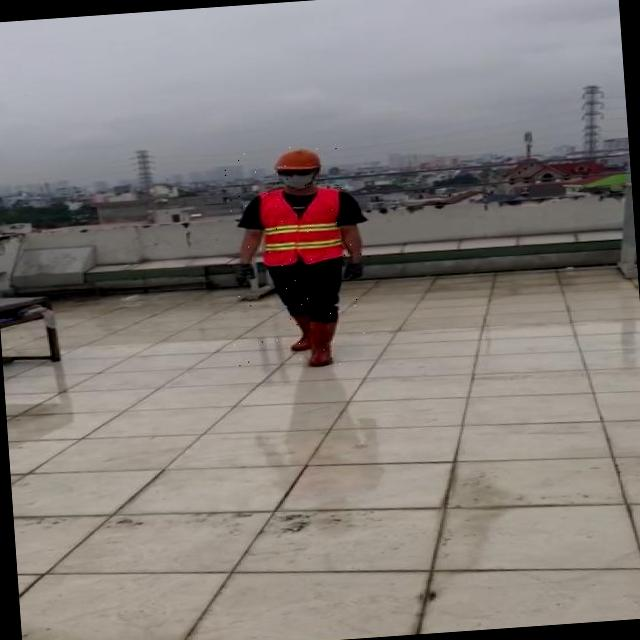boots: (304, 315, 341, 367), (282, 310, 313, 352)
gloves: (220, 253, 274, 301), (334, 252, 366, 288)
helmet: (267, 146, 328, 173)
vest: (260, 187, 344, 264)
